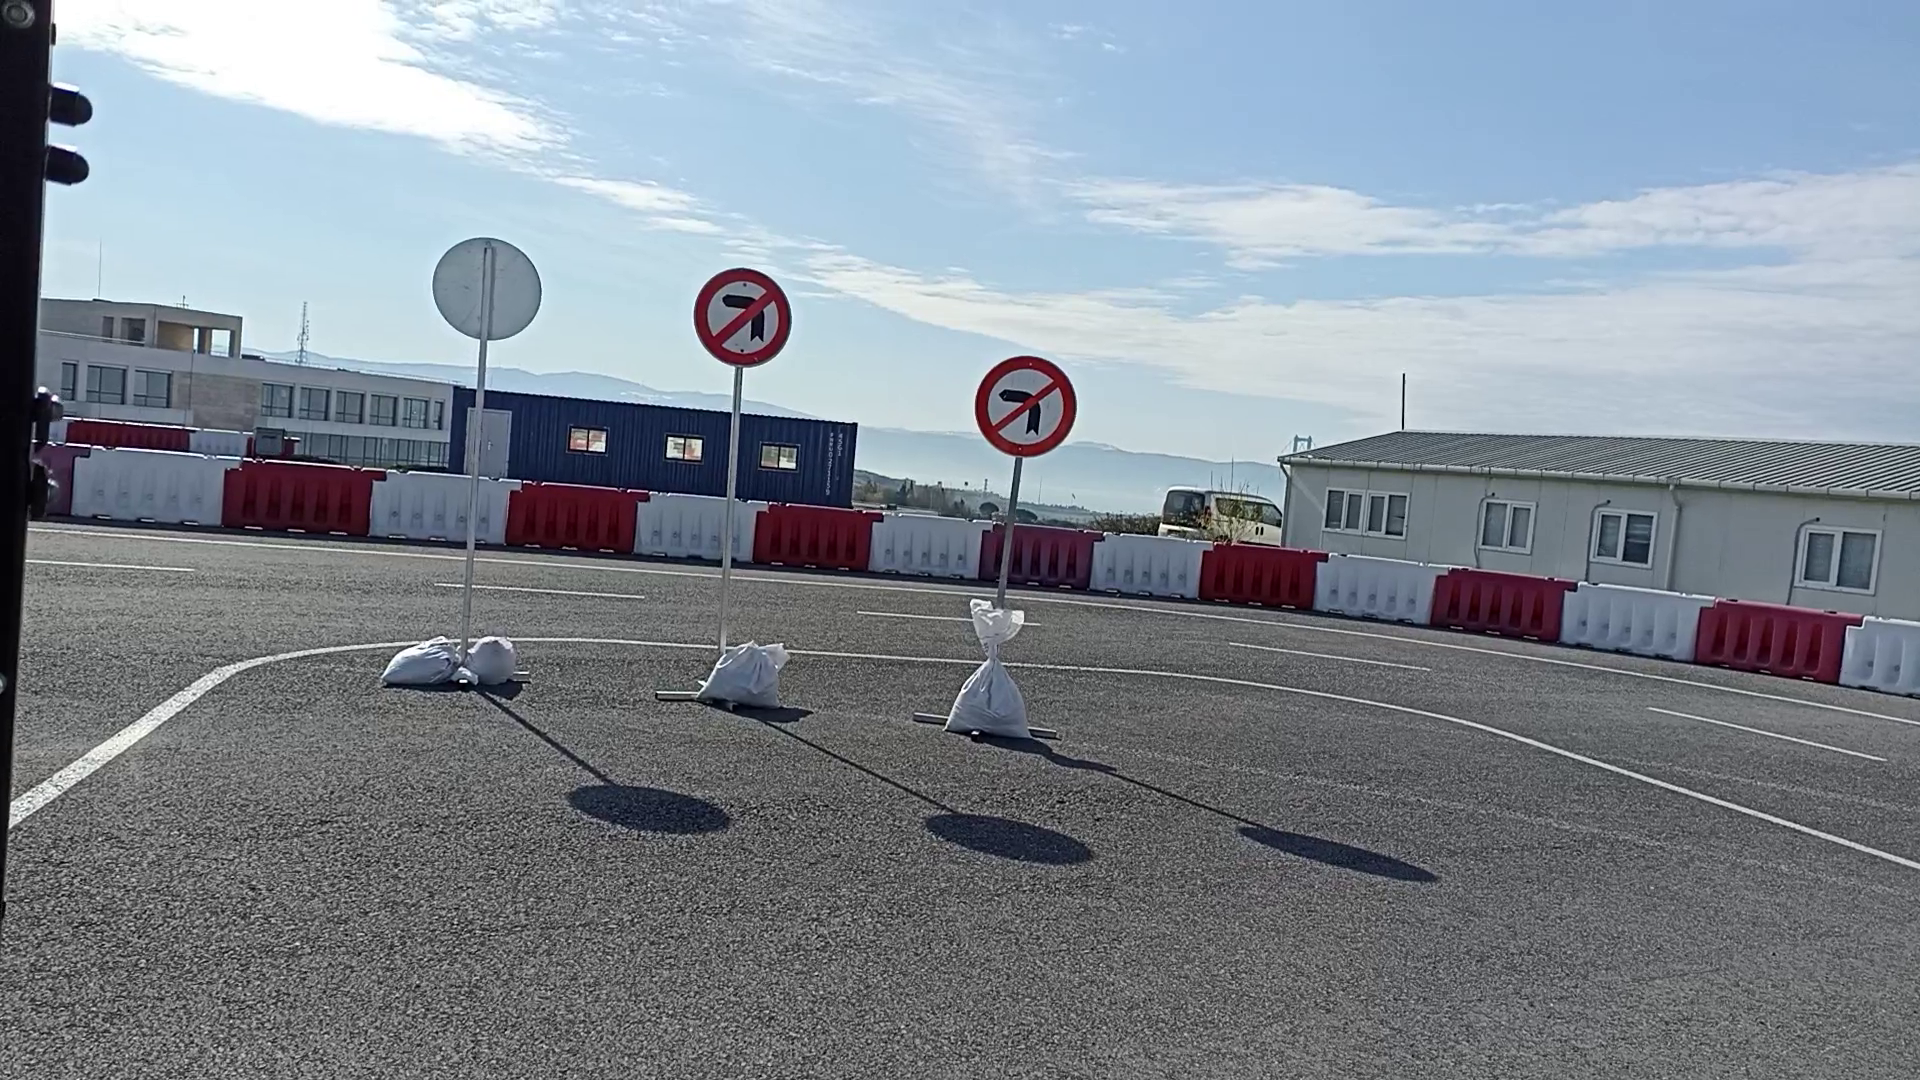noleft: (973, 353, 1079, 459), (692, 266, 795, 368)
